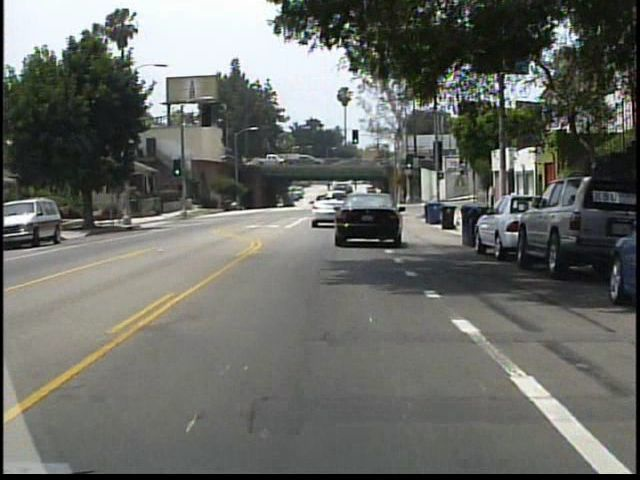person: (62, 201, 76, 231)
